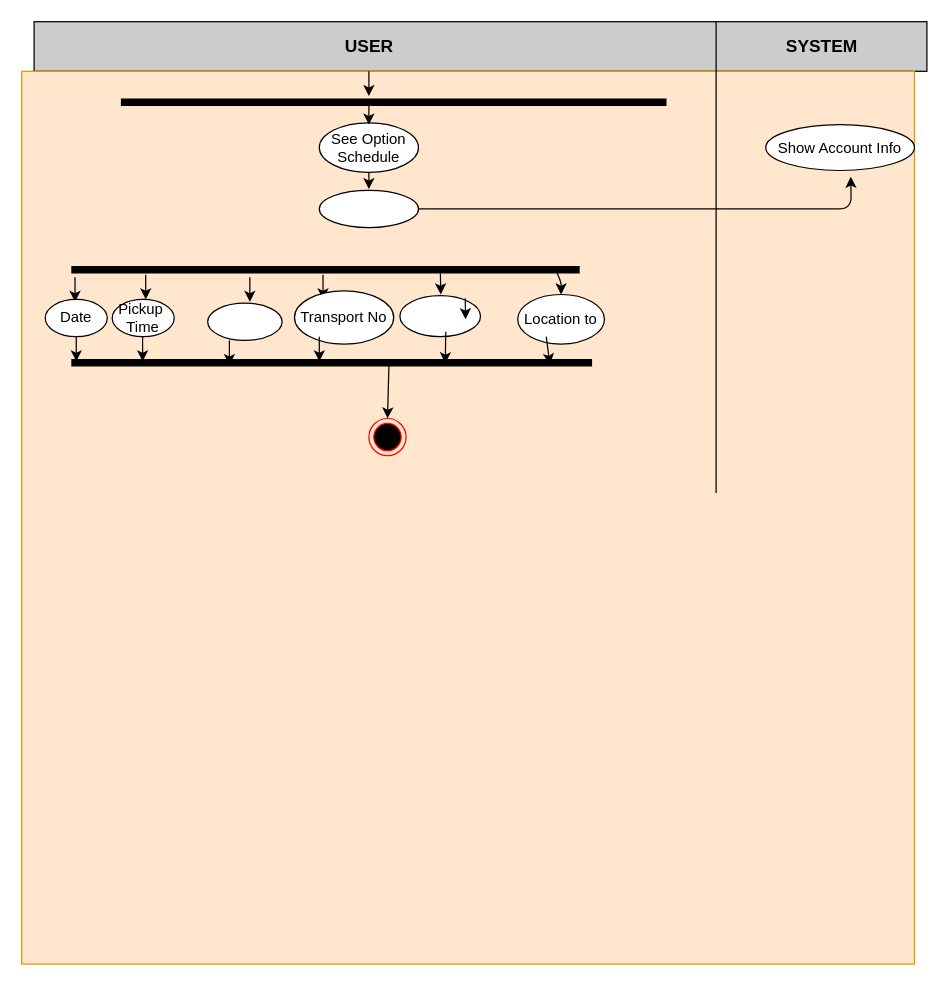
This 949x986 diagram has some shape labels left out. Each missing label, with the centre of its shape:
"Click on That" goes at point 368,208.
"Drop Time" goes at point 439,315.
"Location From" goes at point 244,321.
